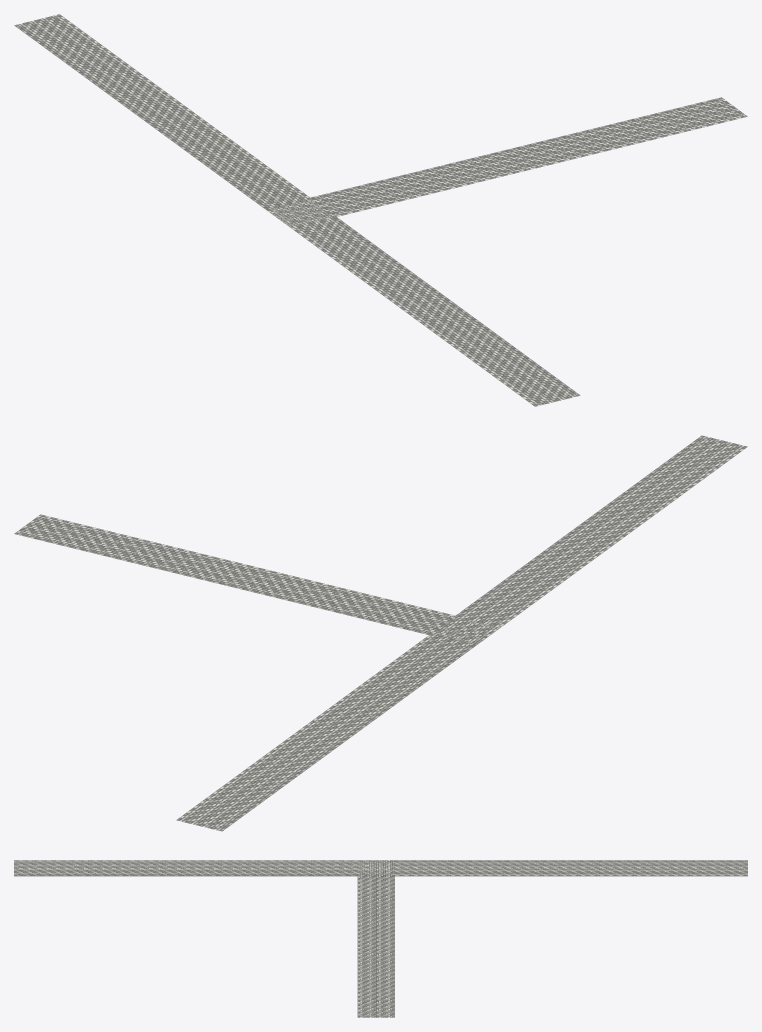
The model's file is _map.fbx.
3 renders of one model, top to bottom at view 1: azimuth 30°, elevation 25°; view 2: azimuth 150°, elevation 25°; view 3: azimuth 270°, elevation 25°, orthographic. The views are drawn at different scales.
Parts seen in each view (by area): view 1: Floor_StonePaving_01, Floor_StonePaving_01.001, Floor_StonePaving_01.002; view 2: Floor_StonePaving_01.001, Floor_StonePaving_01.002, Floor_StonePaving_01; view 3: Floor_StonePaving_01.001, Floor_StonePaving_01.002, Floor_StonePaving_01.
Part boxes in pixels (<box>): Floor_StonePaving_01: <box>265,97,747,227</box>; Floor_StonePaving_01.001: <box>273,204,580,406</box>; Floor_StonePaving_01.002: <box>14,14,322,217</box>; Floor_StonePaving_01.001: <box>436,435,747,640</box>; Floor_StonePaving_01.002: <box>176,628,487,831</box>; Floor_StonePaving_01: <box>14,514,500,646</box>; Floor_StonePaving_01.001: <box>14,860,385,876</box>; Floor_StonePaving_01.002: <box>376,860,747,876</box>; Floor_StonePaving_01: <box>357,860,394,1017</box>.
Size of the model in its own units: 4000 by 6.52e-05 by 7900.
3 materials, 3 textured.
